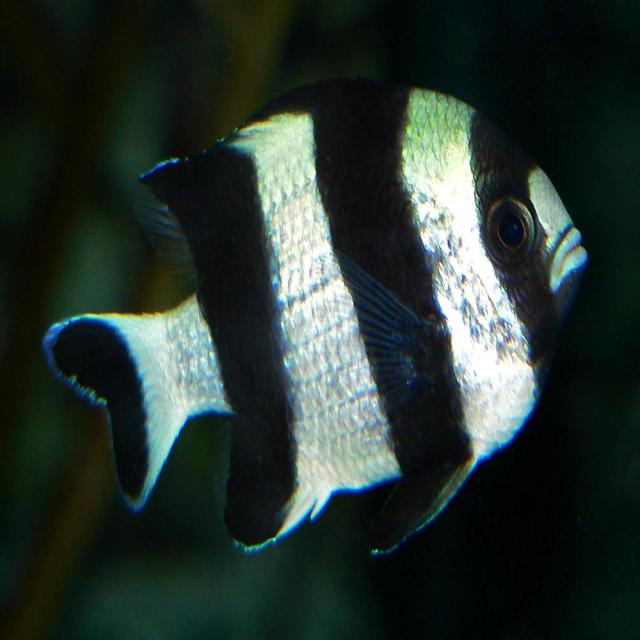ThreeStripedDamselfish: (42, 79, 588, 562)
